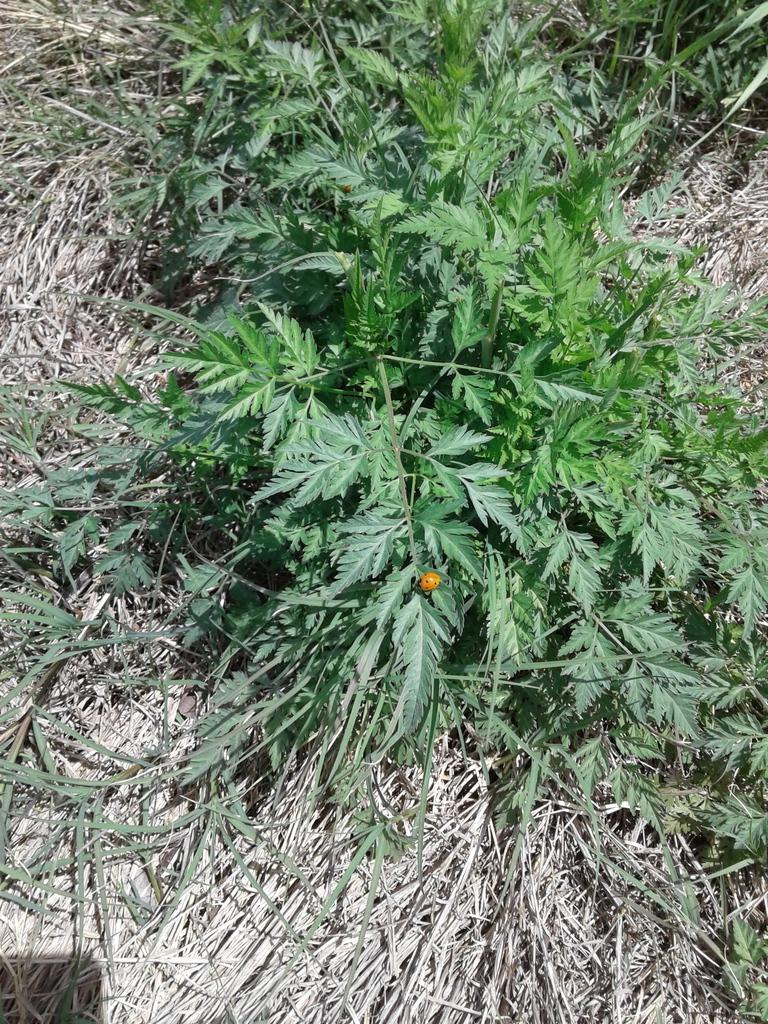ladybug: (415, 571, 445, 596)
